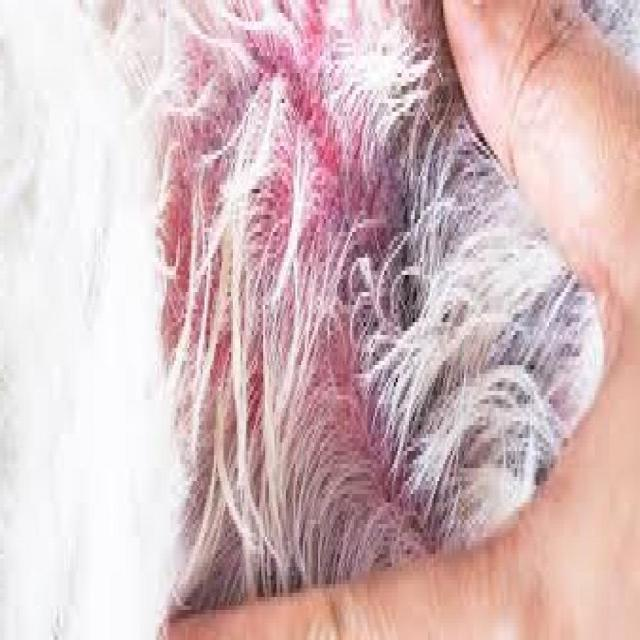allergic dermatitis: (128, 0, 455, 581)
